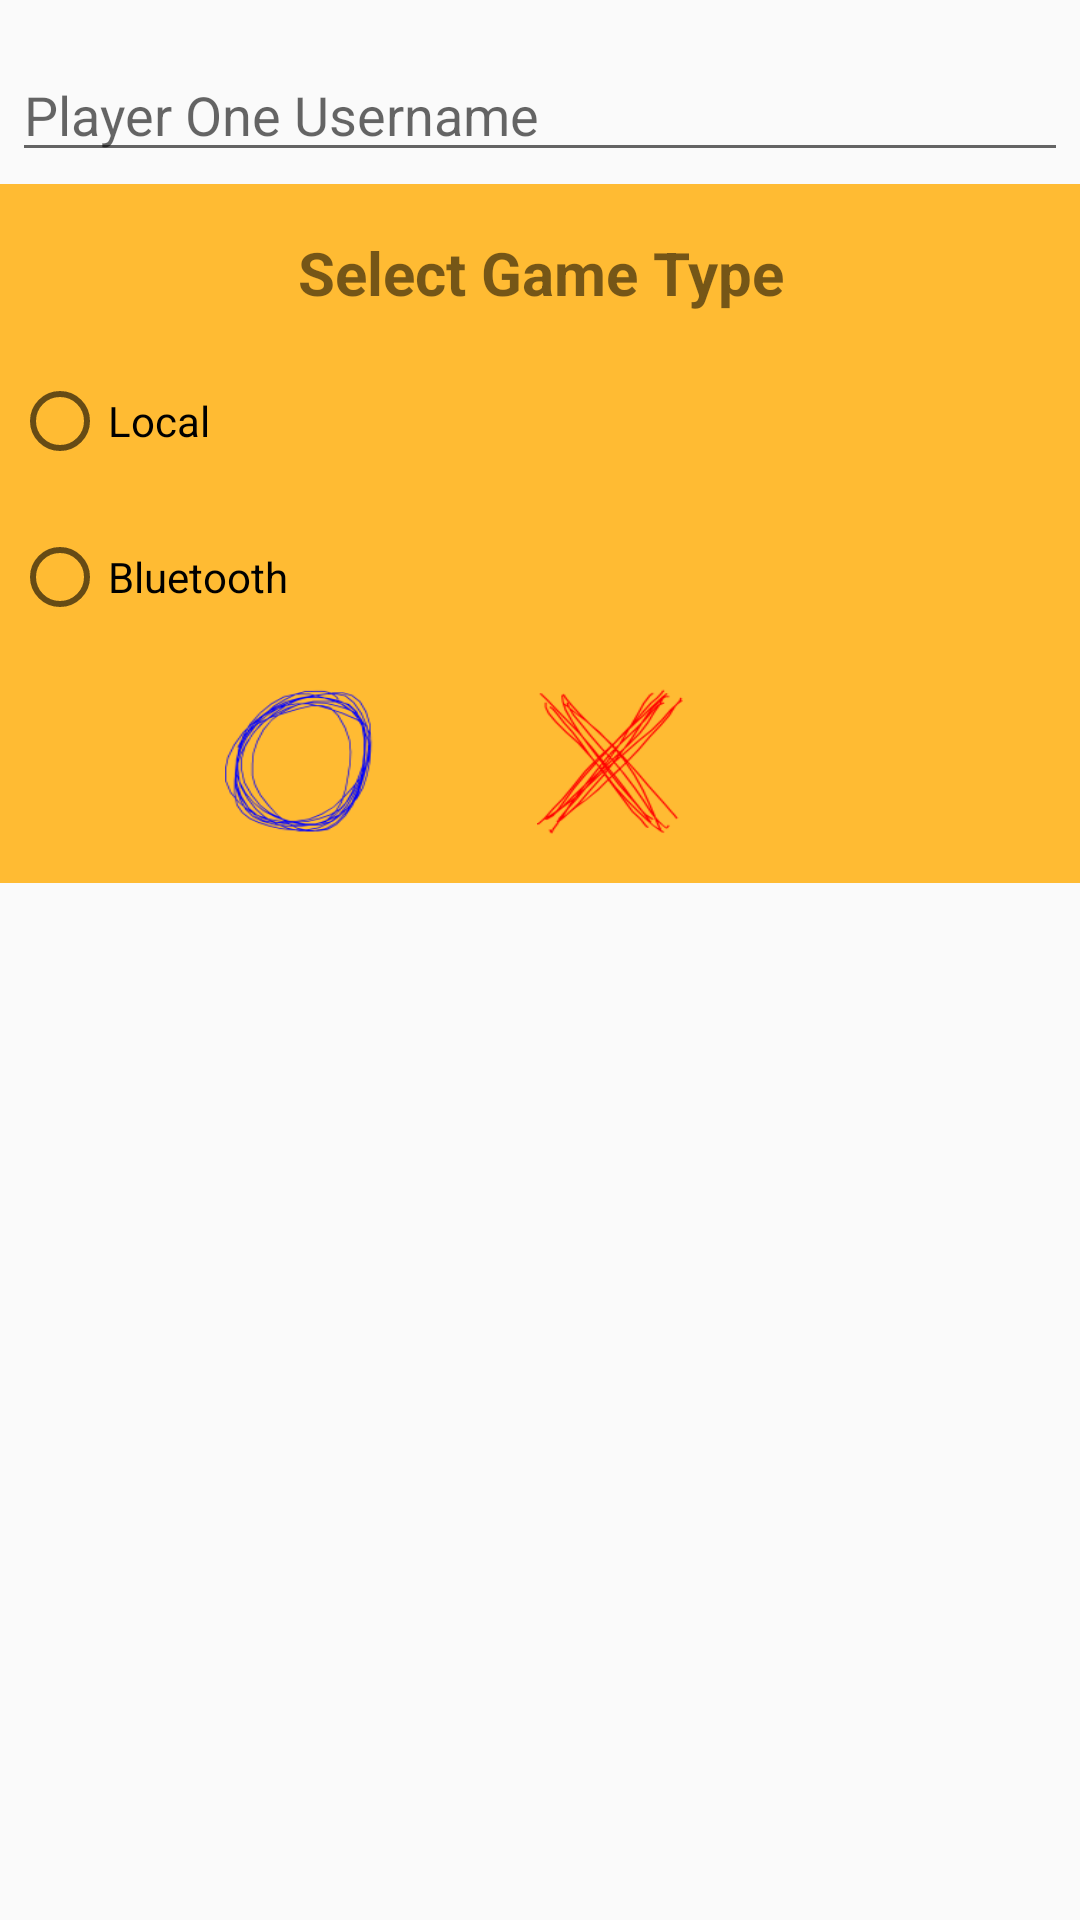

Screen size 1080px×1920px. Icon name, then its center in pixels as (x,y):
tic tac toe: (298,761), (610,762)
